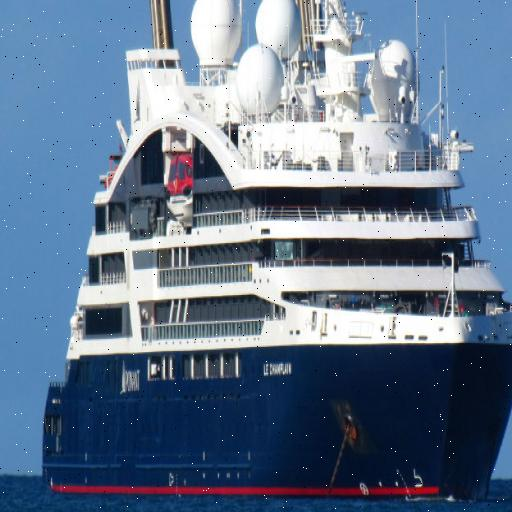cruises: (38, 1, 512, 512)
